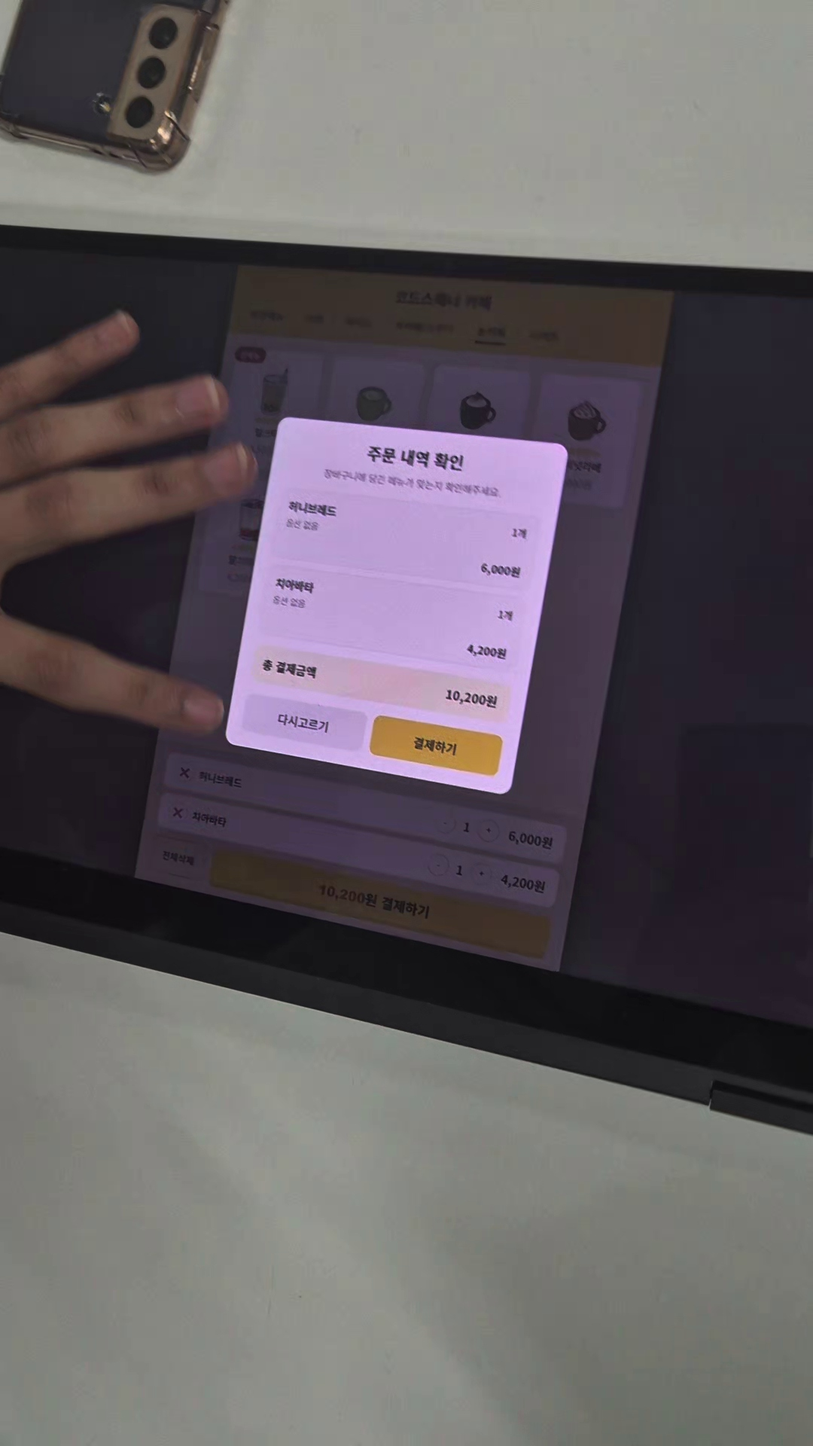action_button: (207, 848, 553, 959), (368, 714, 502, 777), (241, 693, 368, 753), (148, 835, 207, 881)
cart_item: (153, 792, 559, 907), (164, 752, 567, 864)
popup_modal: (224, 416, 568, 795)
